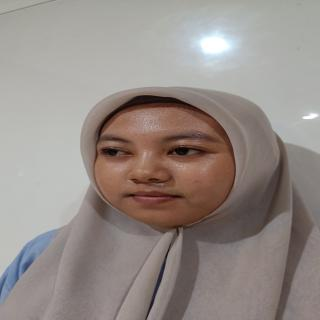Netral: (85, 95, 256, 235)
